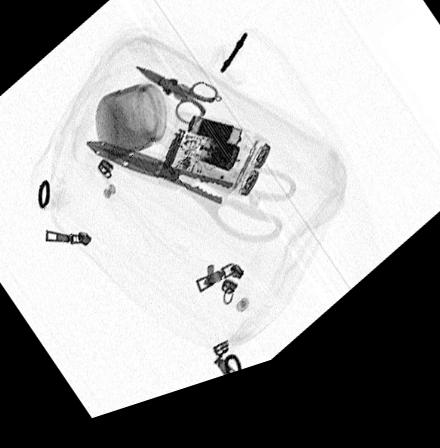Scissors: (84, 143, 298, 259)
